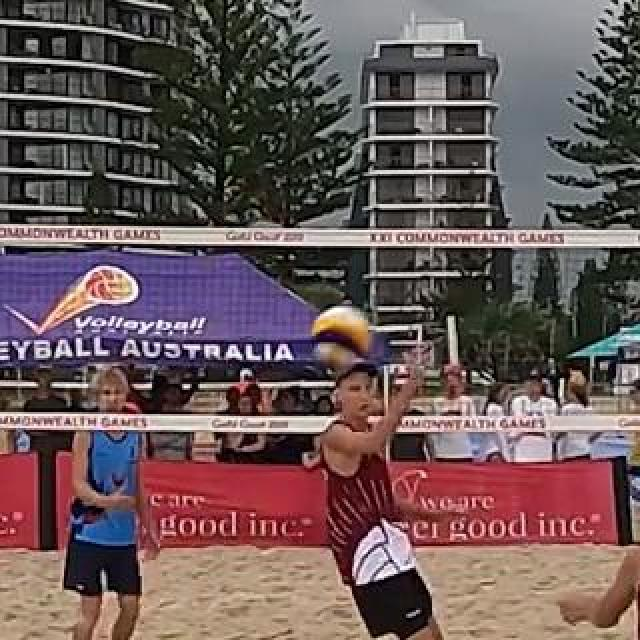volleyball: (312, 306, 372, 366)
